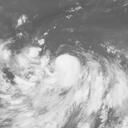cyclone: (54, 54, 81, 82)
